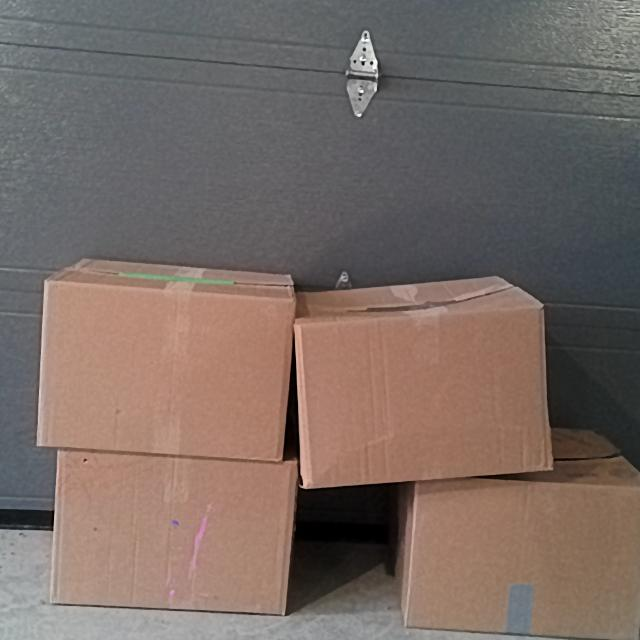box: (39, 282, 294, 455), (300, 310, 551, 475), (50, 456, 291, 608), (406, 487, 640, 630)
